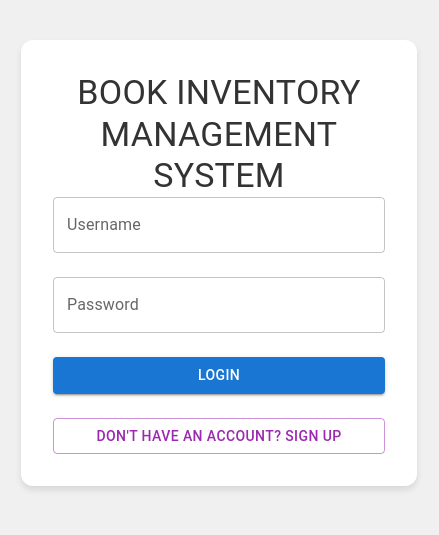
Login Component › shows validation error for empty fields
Click the button "Login" at {"x": 219, "y": 376}, box 53,358 -> 385,394
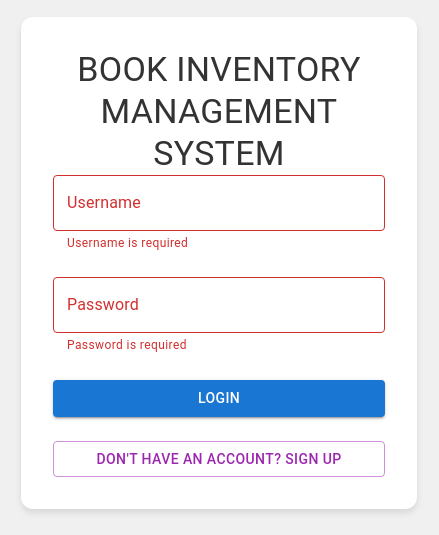
Expected: the text "Username is required" is shown, 67,236 -> 188,250
Expected: the text "Password is required" is shown, 67,338 -> 187,352
